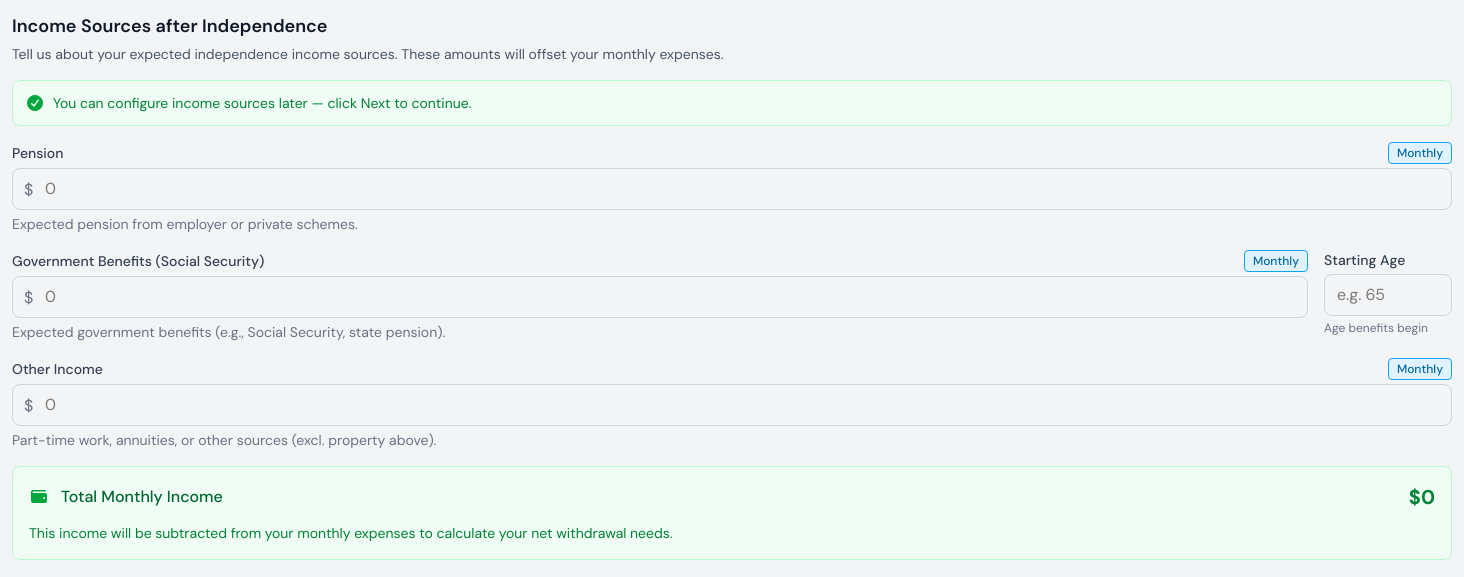
IncomeSourcesStep › updates total when income values change
Type "1000" into the field labelled "Pension" at coordinates (732, 189), box [12,168,1452,210]
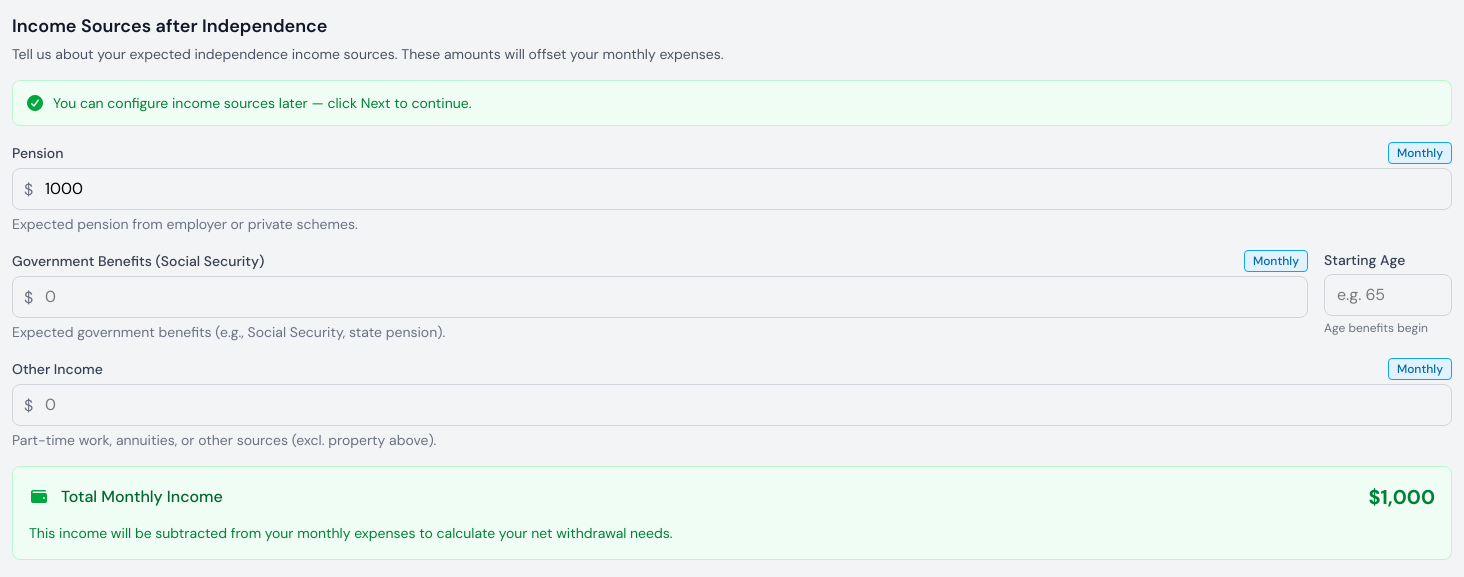
Check: the text "$1,000" is shown, box [1368,483,1435,511]
